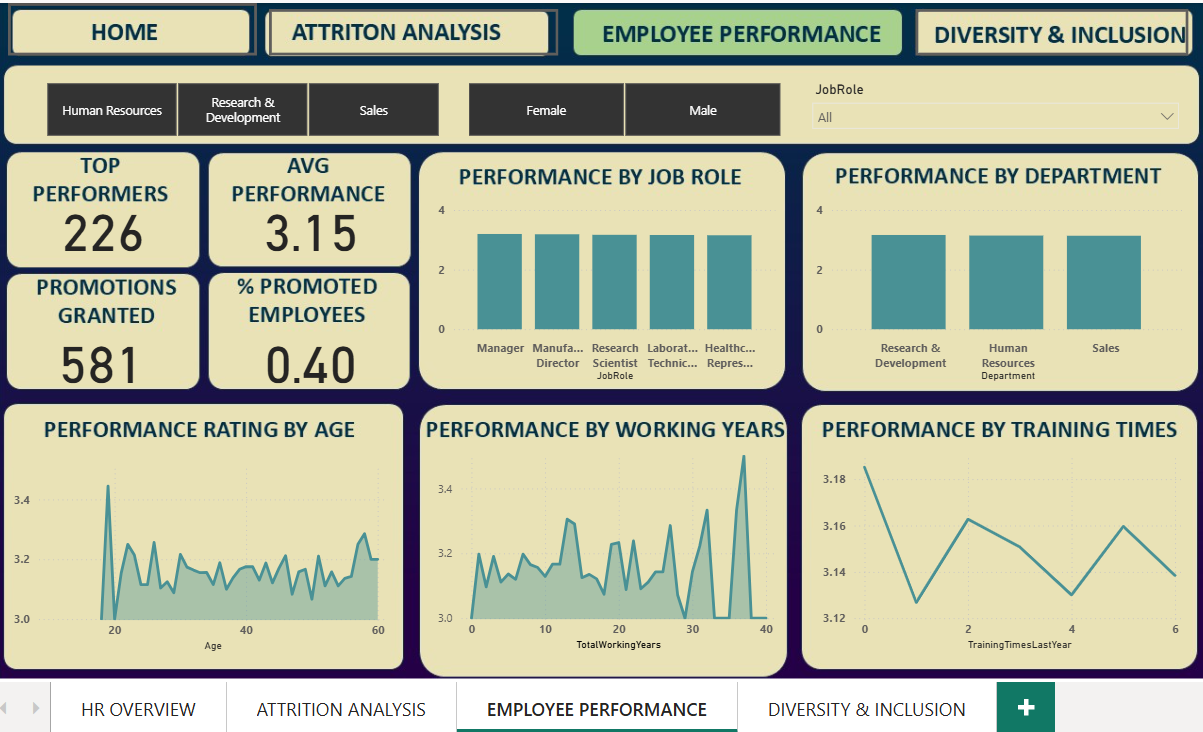

Layout of this report page (visuals, bound fields, positions):
{"tool":"powerbi","page":{"name":"EMPLOYEE PERFORMANCE","canvas":[1280,720],"ordinal":2},"visuals":[{"type":"card","fields":{"Values":["Avg(Employee Data.PerformanceRating)"]},"box":[257.7,175,146.3,124.1],"z":0},{"type":"slicer","fields":{"Values":["Employee Data.Department"]},"box":[25.4,77.9,464.5,70],"z":1000},{"type":"card","fields":{"Values":["Measure Table.Promotions Granted"]},"box":[22.3,326.1,168.6,101.8],"z":2000},{"type":"stackedAreaChart","fields":{"Category":["Employee Data.Age"],"Y":["Avg(Employee Data.PerformanceRating)"]},"box":[10,480,406.7,211.7],"z":3000},{"type":"lineChart","fields":{"Category":["Employee Data.TrainingTimesLastYear"],"Y":["Avg(Employee Data.PerformanceRating)"]},"box":[868.3,466.7,393.3,225],"z":4000},{"type":"areaChart","fields":{"Category":["Employee Data.TotalWorkingYears"],"Y":["Avg(Employee Data.PerformanceRating)"]},"box":[460,466.7,368.3,225],"z":5000},{"type":"clusteredColumnChart","fields":{"Y":["Avg(Employee Data.PerformanceRating)"],"Category":["Employee Data.Department"]},"box":[852.6,205.2,408.8,200.4],"z":6000},{"type":"clusteredColumnChart","fields":{"Y":["Avg(Employee Data.PerformanceRating)"],"Category":["Employee Data.JobRole"]},"box":[459.7,205.2,369,200.4],"z":7000},{"type":"card","fields":{"Values":["Measure Table.Top Performers"]},"box":[28.6,179.7,162.2,114.5],"z":8000},{"type":"card","fields":{"Values":["Measure Table.Promoted Employees %"]},"box":[230.6,305.4,198.8,143.2],"z":9000},{"type":"slicer","fields":{"Values":["Employee Data.Gender"]},"box":[472.4,77.9,380.2,70],"z":10000},{"type":"slicer","fields":{"Values":["Employee Data.JobRole"]},"box":[853.3,78.3,408.3,70],"z":11000},{"type":"actionButton","box":[9.5,0,264,55.7],"z":12000},{"type":"actionButton","box":[286.3,6.4,307,49.3],"z":13000},{"type":"actionButton","box":[971.9,6.4,289.5,49.3],"z":14000}]}

Visuals, with their boxes on the page's 1280x720 design canvas (x1, y1, x2, y2). These are canvas units, not pixel positions in the 1203x732 screenshot, which may show the page scaled, cropped or inside an application window:
card - Avg(Employee Data.PerformanceRating): [x1=258, y1=175, x2=404, y2=299]
slicer - Employee Data.Department: [x1=25, y1=78, x2=490, y2=148]
card - Measure Table.Promotions Granted: [x1=22, y1=326, x2=191, y2=428]
stackedAreaChart - Employee Data.Age x Avg(Employee Data.PerformanceRating): [x1=10, y1=480, x2=417, y2=692]
lineChart - Employee Data.TrainingTimesLastYear x Avg(Employee Data.PerformanceRating): [x1=868, y1=467, x2=1262, y2=692]
areaChart - Employee Data.TotalWorkingYears x Avg(Employee Data.PerformanceRating): [x1=460, y1=467, x2=828, y2=692]
clusteredColumnChart - Avg(Employee Data.PerformanceRating) x Employee Data.Department: [x1=853, y1=205, x2=1261, y2=406]
clusteredColumnChart - Avg(Employee Data.PerformanceRating) x Employee Data.JobRole: [x1=460, y1=205, x2=829, y2=406]
card - Measure Table.Top Performers: [x1=29, y1=180, x2=191, y2=294]
card - Measure Table.Promoted Employees %: [x1=231, y1=305, x2=429, y2=449]
slicer - Employee Data.Gender: [x1=472, y1=78, x2=853, y2=148]
slicer - Employee Data.JobRole: [x1=853, y1=78, x2=1262, y2=148]
actionButton: [x1=10, y1=0, x2=274, y2=56]
actionButton: [x1=286, y1=6, x2=593, y2=56]
actionButton: [x1=972, y1=6, x2=1261, y2=56]
